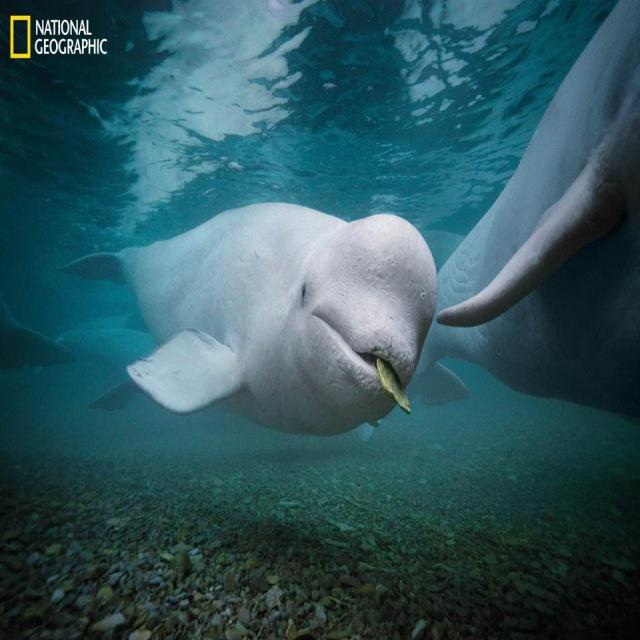whale: (66, 0, 639, 434)
